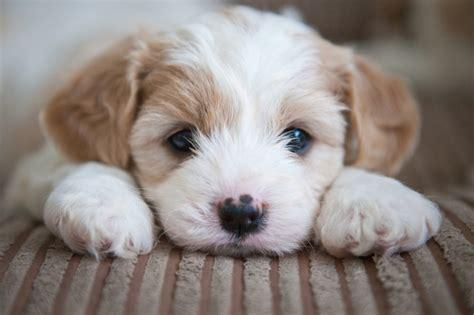dog: (13, 8, 441, 257)
